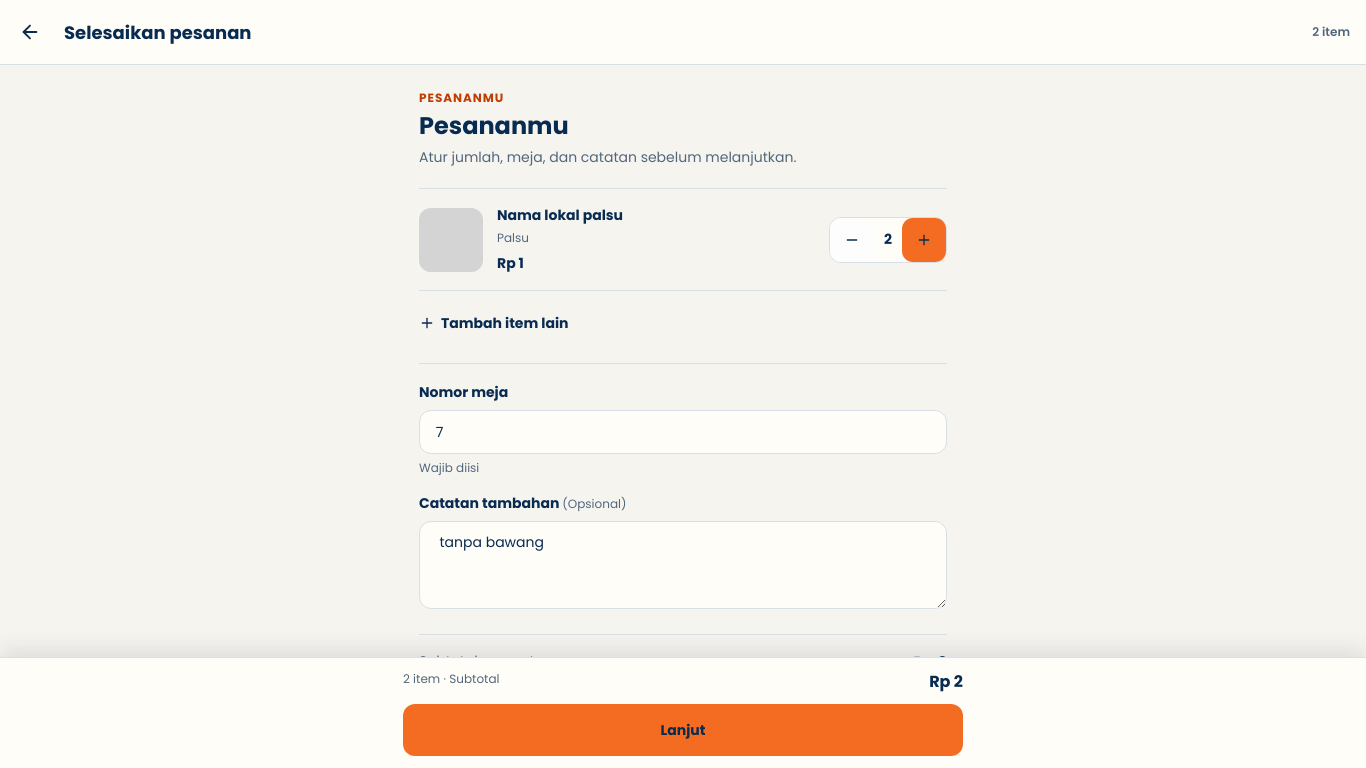
Test: CartView checkout recovery › quotes a valid cart before confirmation, focuses its heading, and shows only canonical pricing
The image size is (1366, 768).
Click the button "Lanjut" at [683, 730], box top-left (403, 704), bottom-right (963, 756)
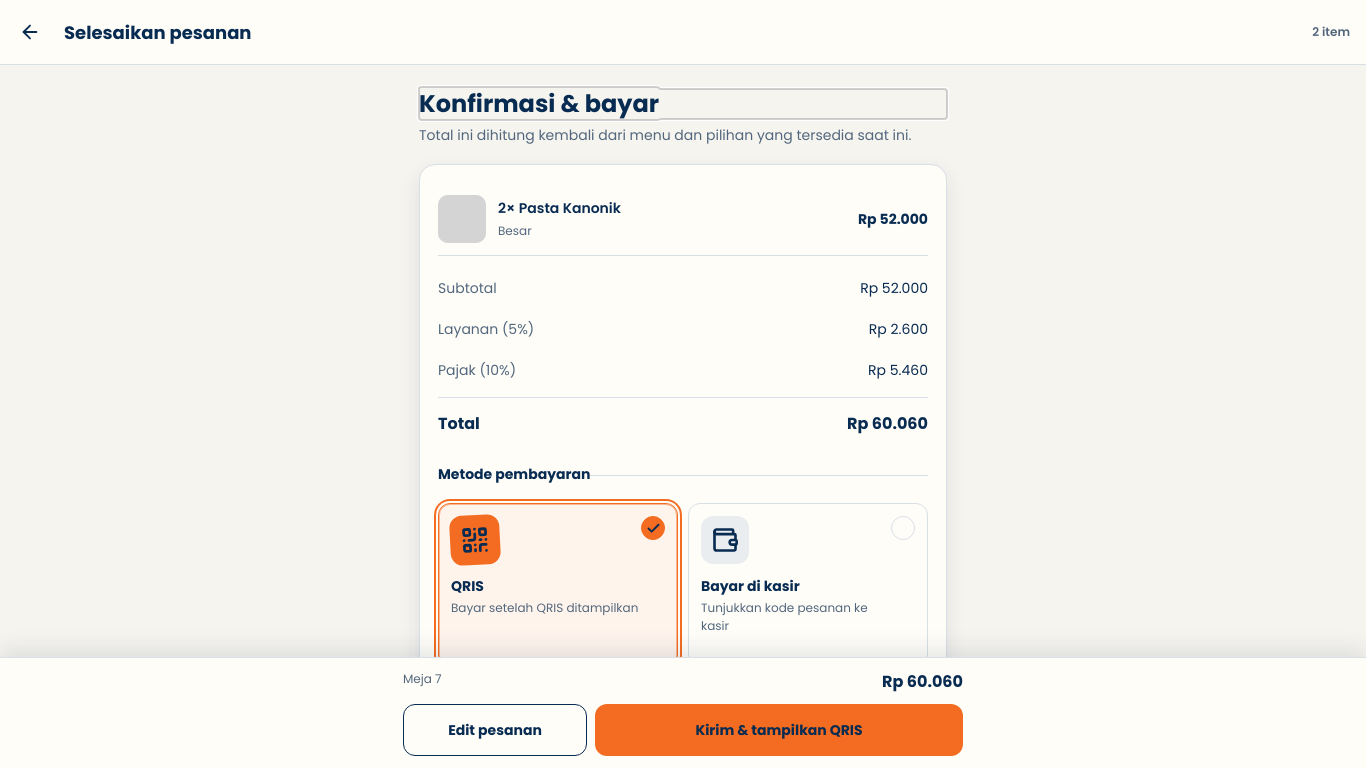
Check: the heading "Konfirmasi & bayar" is shown, box top-left (419, 87), bottom-right (659, 120)
Check: the text "2× Pasta Kanonik" is shown, box top-left (498, 198), bottom-right (621, 218)
Check: the heading "Nama lokal palsu" is gone
